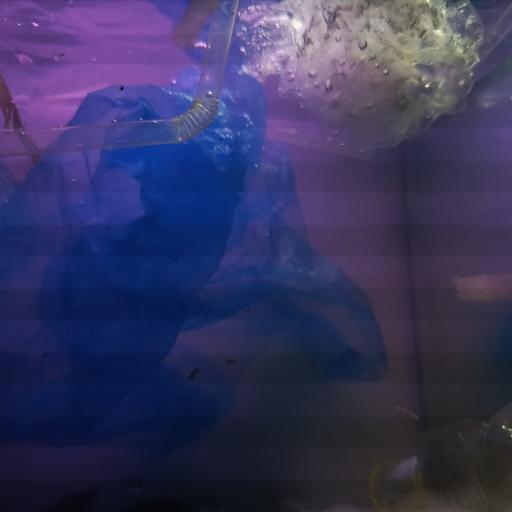plastic_bag: (1, 44, 388, 460), (176, 0, 483, 159)
plastic_bottle: (365, 402, 512, 512)
plastic_straw: (0, 0, 237, 159), (472, 0, 512, 62), (172, 0, 218, 48)
